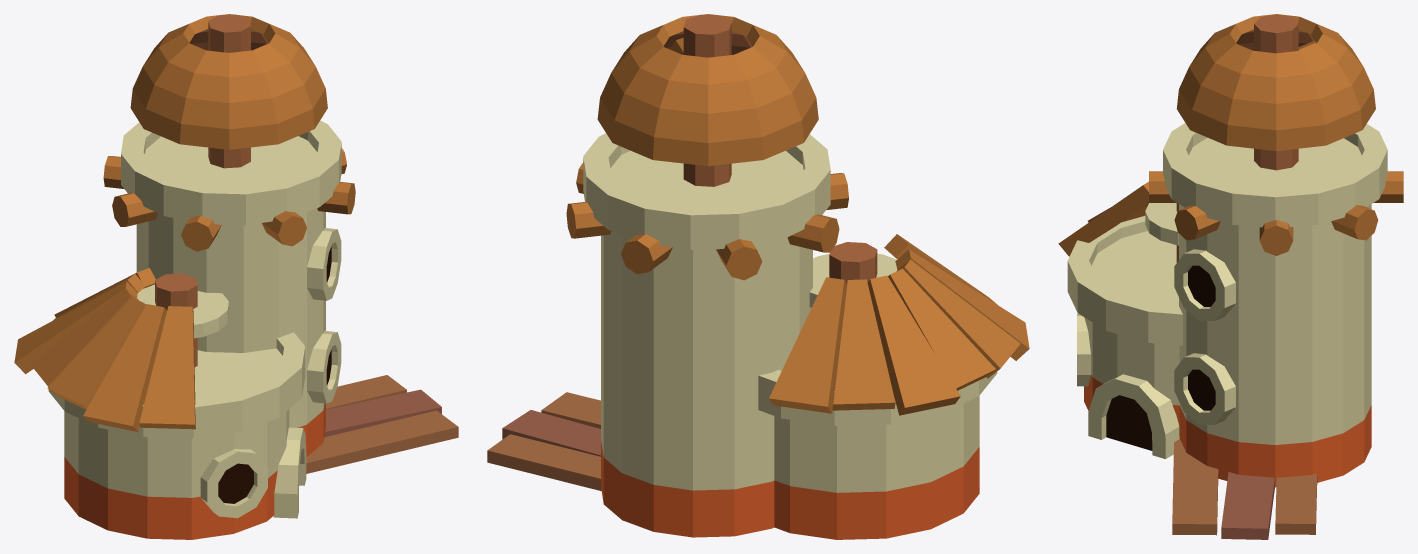
The model's file is training.fbx.
The picture shows the model from 3 angles, left to right: view 1: azimuth 30°, elevation 25°; view 2: azimuth 150°, elevation 25°; view 3: azimuth 270°, elevation 25°; orthographic projection. The views are drawn at different scales.
Parts seen in each view (by area): view 1: training; view 2: training; view 3: training.
Boxes of the visible parts, x1,y1,x2,y2 form: training: (14, 14, 458, 539); training: (487, 14, 1029, 539); training: (1058, 14, 1403, 539).
Bounding box in the file's own units: 310 × 305 × 224.
